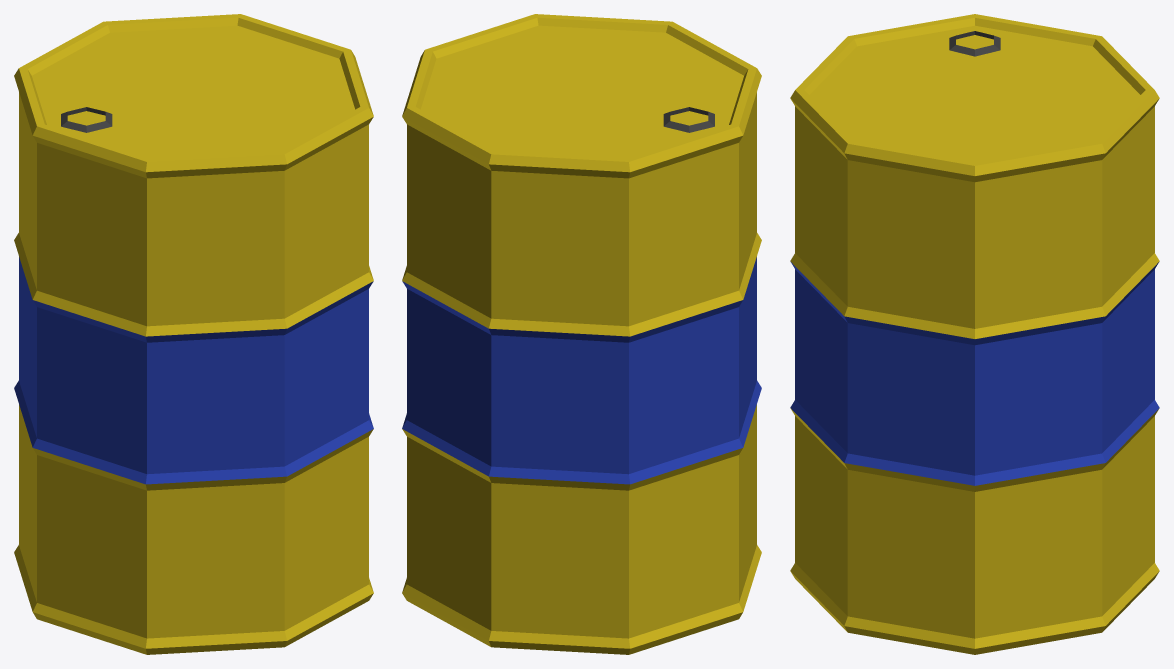
Rendered from DrumYellowBlue.fbx.
3 renders of one model, left to right at view 1: azimuth 30°, elevation 25°; view 2: azimuth 150°, elevation 25°; view 3: azimuth 270°, elevation 25°, orthographic.
Parts seen in each view (by area): view 1: Cylinder; view 2: Cylinder; view 3: Cylinder.
Part boxes in pixels (x1=…): Cylinder: x1=14, y1=14, x2=373, y2=654; Cylinder: x1=402, y1=14, x2=761, y2=654; Cylinder: x1=790, y1=14, x2=1159, y2=654.
Bounding box in the file's own units: 0.822 × 1.2 × 0.822.
